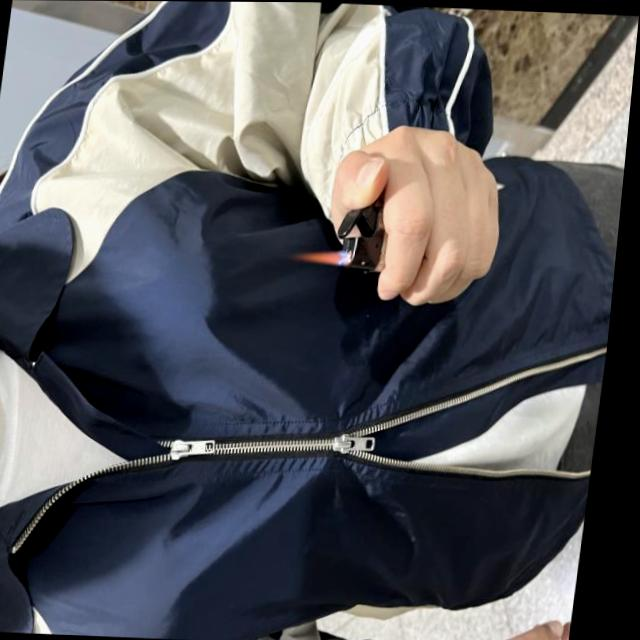Fire: (295, 244, 351, 266)
